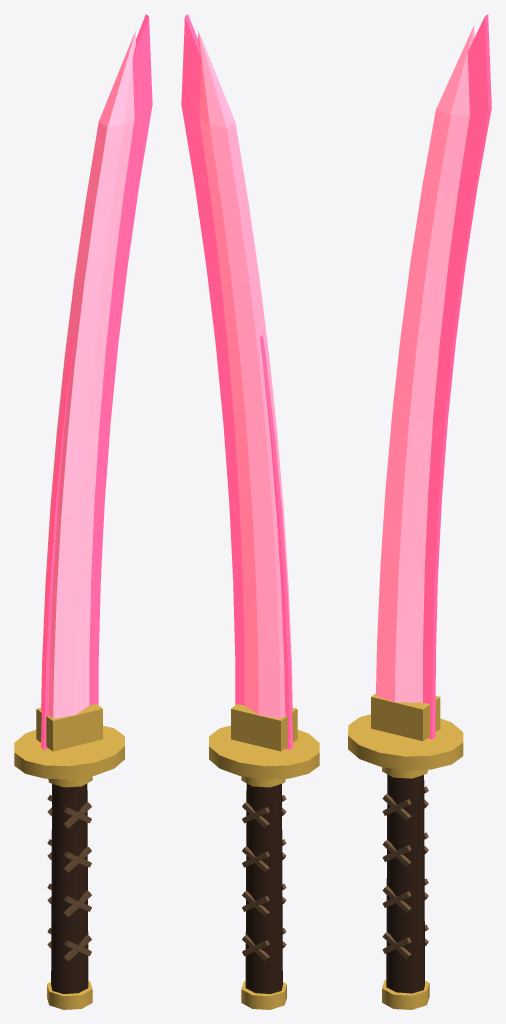
Rendered from sword_f1_1e4ffc8d.glb.
3 renders of one model, left to right at view 1: azimuth 30°, elevation 25°; view 2: azimuth 150°, elevation 25°; view 3: azimuth 330°, elevation 25°, orthographic. The views are drawn at different scales.
Visible parts, largest first — view 1: m0_ow80_, m1_gm130_, m3_ow80_, m2_ow80_, m4_ow80_; view 2: m0_ow80_, m1_gm130_, m3_ow80_, m2_ow80_, m4_ow80_; view 3: m0_ow80_, m1_gm130_, m3_ow80_, m2_ow80_, m4_ow80_.
Part boxes in pixels (x1=…): m0_ow80_: x1=41, y1=31, x2=135, y2=718; m1_gm130_: x1=41, y1=14, x2=152, y2=749; m3_ow80_: x1=14, y1=704, x2=124, y2=1009; m2_ow80_: x1=51, y1=783, x2=88, y2=993; m4_ow80_: x1=47, y1=795, x2=91, y2=961; m0_ow80_: x1=198, y1=31, x2=292, y2=718; m1_gm130_: x1=181, y1=14, x2=292, y2=749; m3_ow80_: x1=209, y1=704, x2=319, y2=1009; m2_ow80_: x1=245, y1=783, x2=282, y2=993; m4_ow80_: x1=242, y1=795, x2=286, y2=961; m0_ow80_: x1=376, y1=25, x2=474, y2=702; m1_gm130_: x1=423, y1=14, x2=491, y2=739; m3_ow80_: x1=348, y1=693, x2=463, y2=1009; m2_ow80_: x1=386, y1=774, x2=424, y2=993; m4_ow80_: x1=382, y1=786, x2=428, y2=959.
Bounding box in the file's own units: 0.2694 × 1.9 × 0.1764.
